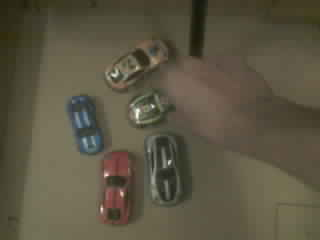Car: (105, 40, 168, 90), (144, 134, 181, 205), (99, 150, 132, 223), (67, 94, 103, 154), (128, 90, 170, 126)
